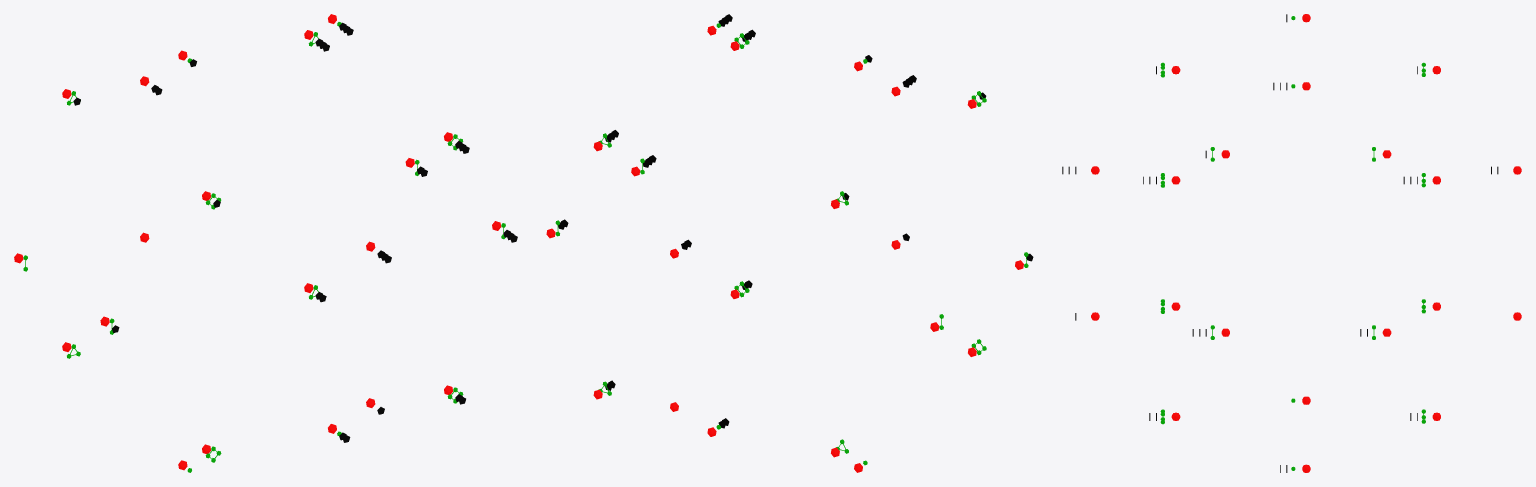
Rendered from NumSpots.glb.
3 renders of one model, left to right at view 1: azimuth 30°, elevation 25°; view 2: azimuth 150°, elevation 25°; view 3: azimuth 270°, elevation 25°, orthographic. The views are drawn at different scales.
Bounding box in the file's own units: 3.3 × 3.3 × 3.52.
